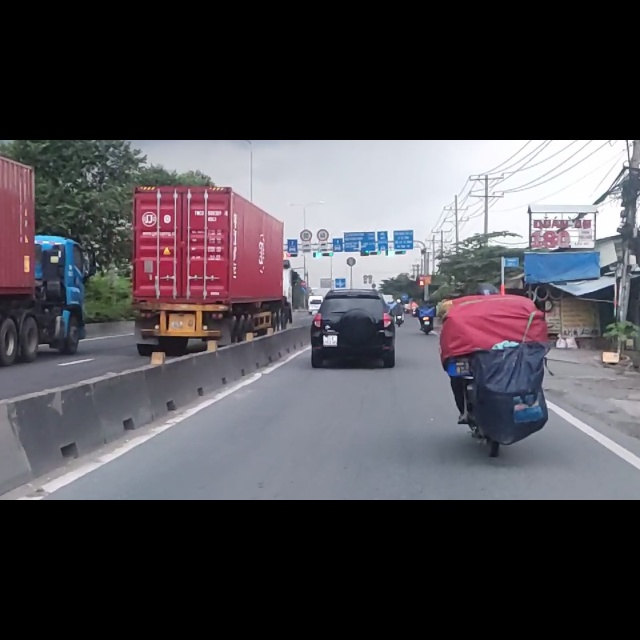bien_nguy_hiem: (300, 159, 313, 180), (317, 158, 329, 180)
